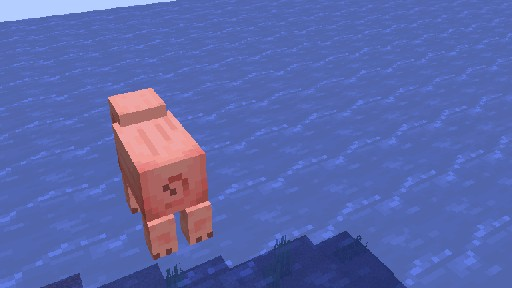pig: (107, 87, 213, 260)
